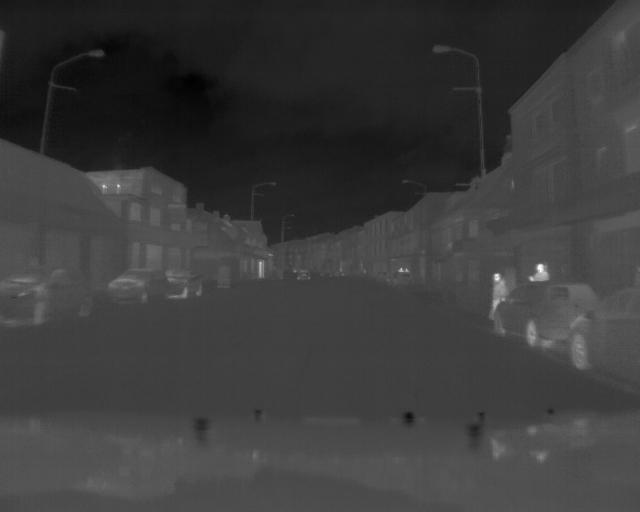car: (492, 283, 602, 353), (570, 288, 640, 382), (1, 264, 92, 326), (107, 265, 172, 305), (159, 267, 204, 302), (294, 267, 312, 281)
person: (490, 269, 509, 325), (530, 258, 550, 285)
